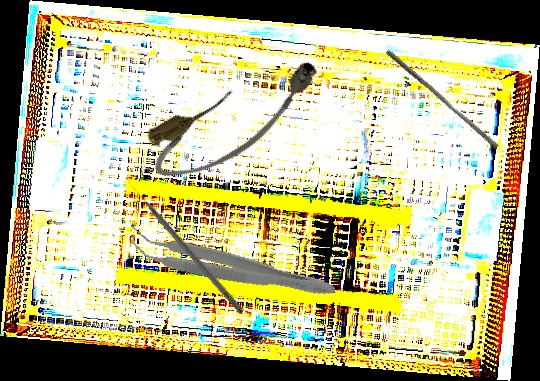Cannula: (137, 48, 337, 192)
Hook Surgical: (125, 179, 246, 315)
Pusher: (381, 49, 503, 150)
Tissue Forceps: (124, 225, 340, 304)
